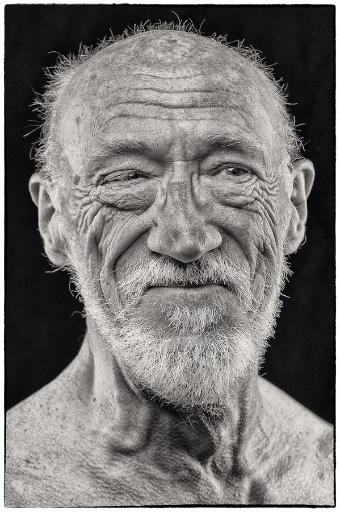left_eye: (205, 162, 259, 185)
left_lip_corner: (216, 278, 232, 299)
right_eye: (98, 165, 156, 191)
right_lip_corner: (143, 279, 160, 302)
